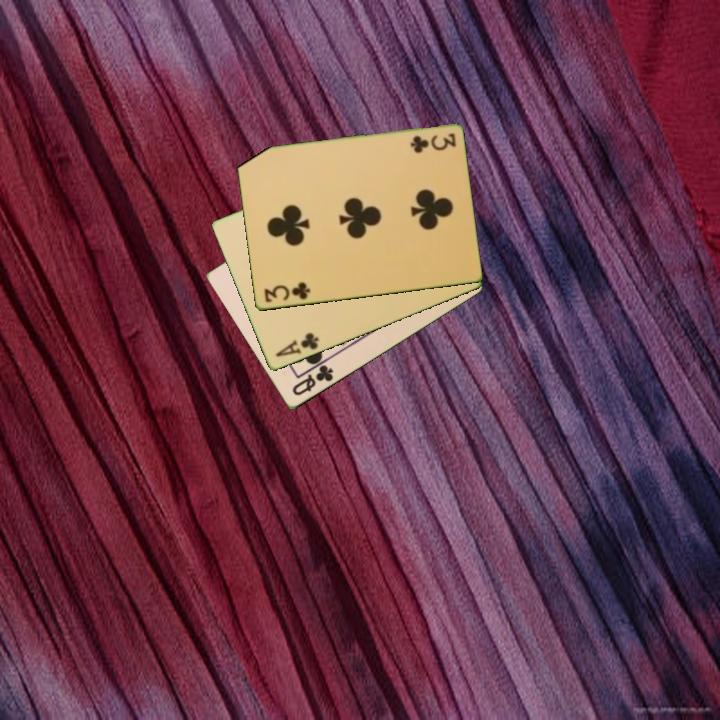3c: (260, 279, 313, 305), (406, 130, 459, 154)
Ac: (272, 329, 321, 360)
Qc: (288, 361, 336, 399)
